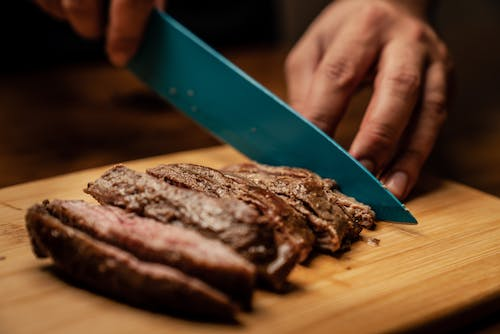knife: (122, 4, 419, 226)
